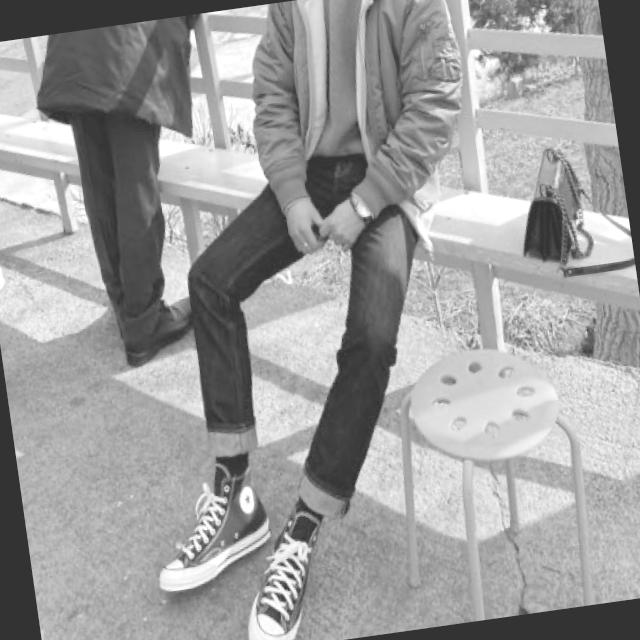denimpants: (170, 138, 456, 537)
jacket: (235, 0, 479, 235)
